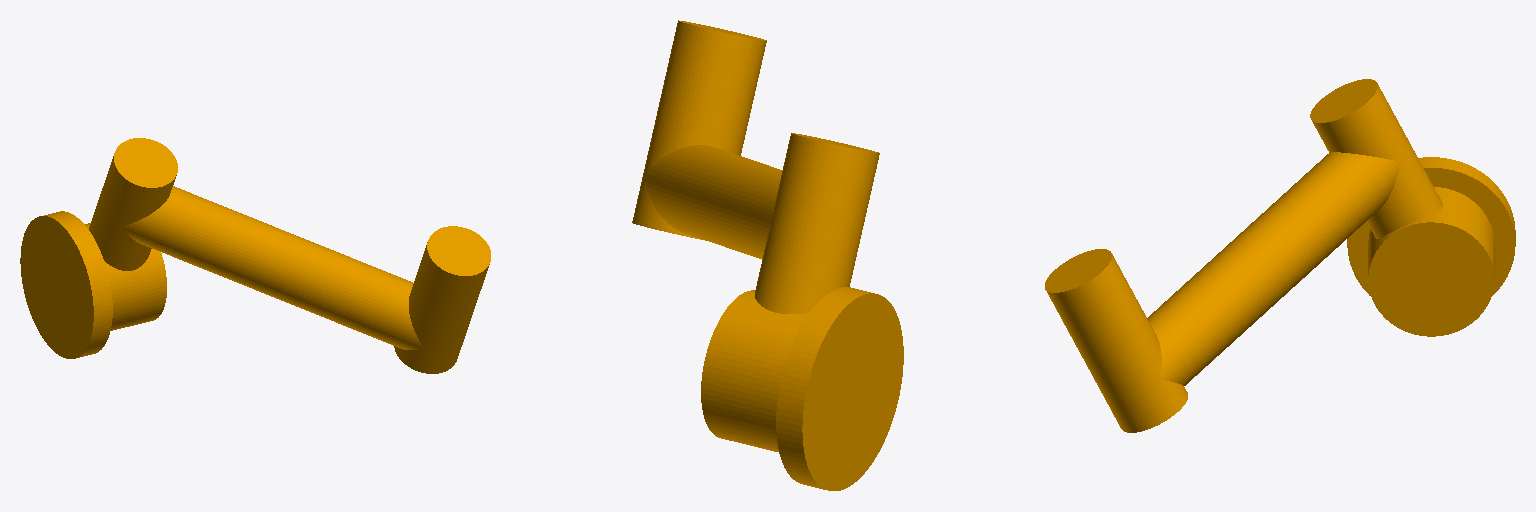
robot.urdf — arm1:
<?xml version="1.0"?>
<robot name="arm1">
  
  <!-- Link 1: Base Link -->
  <link name="base_link">
    <visual>
      <geometry>
        <mesh filename="package://arm1/urdf/arm1.stl"/> <!-- Update with correct STL path -->
      </geometry>
    </visual>
    <collision>
      <geometry>
        <mesh filename="package://arm1/urdf/base.stl"/> <!-- Collision geometry for base -->
      </geometry>
    </collision>
    <inertial>
      <mass value="1.0"/> <!-- Replace with actual mass -->
      <inertia  ixx="0.01" ixy="0.0" ixz="0.0" iyy="0.01" iyz="0.0" izz="0.01"/> <!-- Replace with actual inertia -->
    </inertial>
  </link>

  <!-- Joint 1: Connecting base to arm -->
  <joint name="base_to_arm" type="revolute">
    <parent link="base_link"/>
    <child link="arm_link"/>
    <origin xyz="0 0 1.0" rpy="0 0 0"/> <!-- Joint position and orientation -->
    <axis xyz="0 1 0"/> <!-- Axis of rotation for revolute joint -->
    <limit lower="0.0" upper="1.57" effort="100" velocity="1.0"/> <!-- Joint limits (modify as needed) -->
  </joint>

  <!-- Link 2: Arm Link -->
  <link name="arm_link">
    <visual>
      <geometry>
        <mesh filename="package://arm1/urdf/arm.stl"/> <!-- Update with correct STL path -->
      </geometry>
    </visual>
    <collision>
      <geometry>
        <mesh filename="package://arm1/urdf/arm.stl"/> <!-- Collision geometry for arm -->
      </geometry>
    </collision>
    <inertial>
      <mass value="2.0"/> <!-- Replace with actual mass -->
      <inertia  ixx="0.02" ixy="0.0" ixz="0.0" iyy="0.02" iyz="0.0" izz="0.02"/> <!-- Replace with actual inertia -->
    </inertial>
  </link>

</robot>

--- Render facts (derived) ---
3 views of the same robot in one strip: view 1: azimuth 30°, elevation 25°; view 2: azimuth 150°, elevation 25°; view 3: azimuth 270°, elevation 25° (orthographic).
Model arm1 with 2 links and 1 joints (1 revolute), rooted at base_link, posed all joints at 0.
Visible links, largest first — view 1: base_link; view 2: base_link; view 3: base_link.
Link boxes in pixels (x1,y1,x2,y2): base_link: [20, 138, 490, 373]; base_link: [632, 20, 903, 490]; base_link: [1045, 79, 1515, 432].
Size in the robot's own frame: 218 by 280 by 165 metres.
Meshes: 2 distinct files referenced, 1 mesh visuals loaded (1 binary STL); not drawn: 1 (reference not matched to a file when rendering).